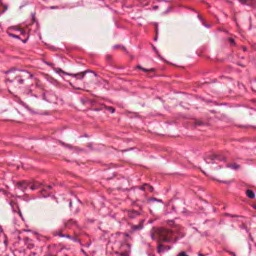mitosis: (219, 82, 229, 92)
